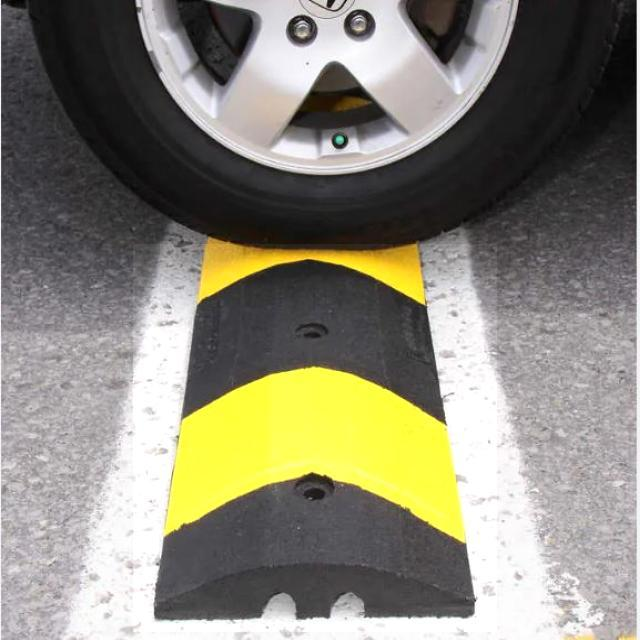speed-bump: (134, 244, 498, 632)
